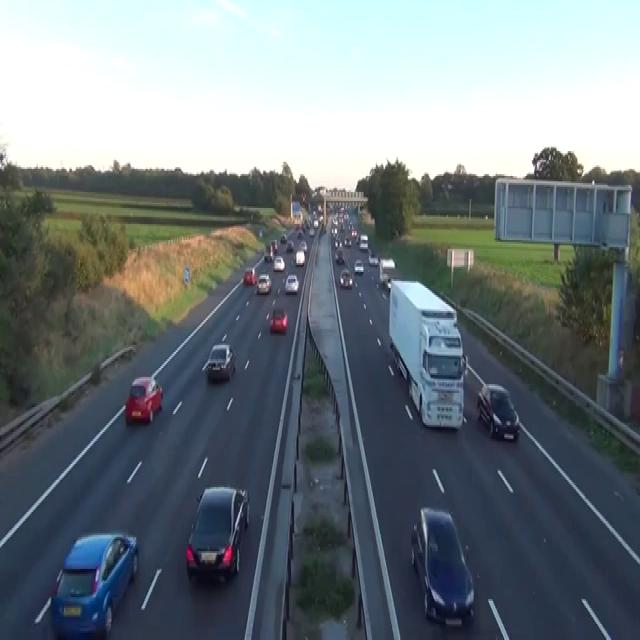Car: (281, 489, 366, 638), (50, 532, 138, 638), (410, 506, 475, 626), (185, 485, 250, 583), (476, 382, 519, 441), (125, 375, 163, 423), (206, 343, 236, 382), (269, 308, 287, 332), (256, 272, 271, 293), (284, 274, 299, 293), (339, 268, 353, 288), (291, 249, 305, 267), (243, 266, 256, 284), (273, 254, 285, 270), (354, 258, 364, 274), (368, 251, 379, 265), (335, 249, 344, 263), (263, 247, 272, 261), (386, 276, 394, 290), (285, 240, 293, 251), (299, 240, 307, 251), (334, 238, 342, 249), (343, 237, 351, 247), (271, 238, 277, 251), (300, 192, 306, 204), (280, 233, 287, 243), (351, 228, 357, 238), (331, 226, 337, 236), (308, 226, 315, 234), (296, 230, 303, 238), (332, 215, 338, 224), (313, 218, 318, 228), (327, 202, 332, 212), (318, 214, 323, 222), (258, 228, 262, 236)
Truck: (388, 277, 466, 428), (378, 258, 395, 284)
